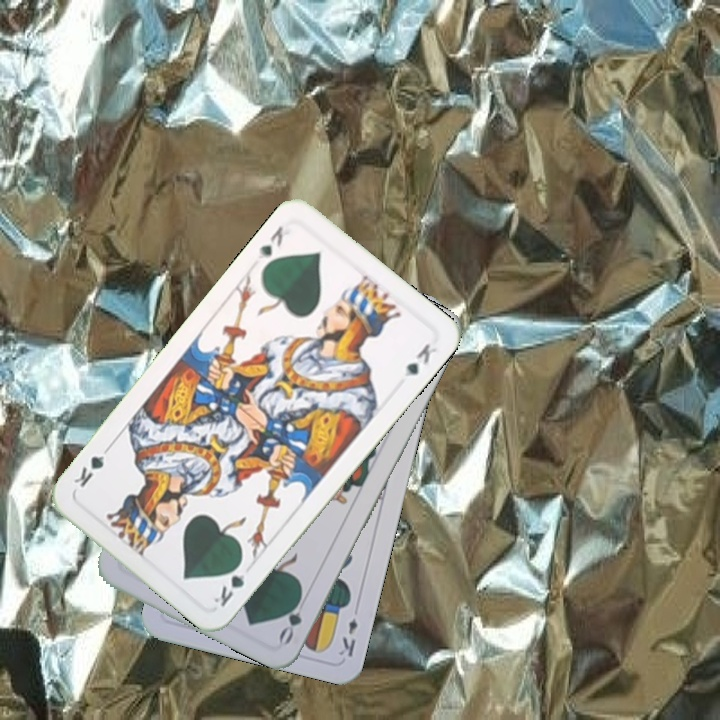EK: (335, 614, 361, 660)
GK: (209, 556, 251, 610), (254, 222, 286, 263)
GO: (274, 588, 309, 647)
